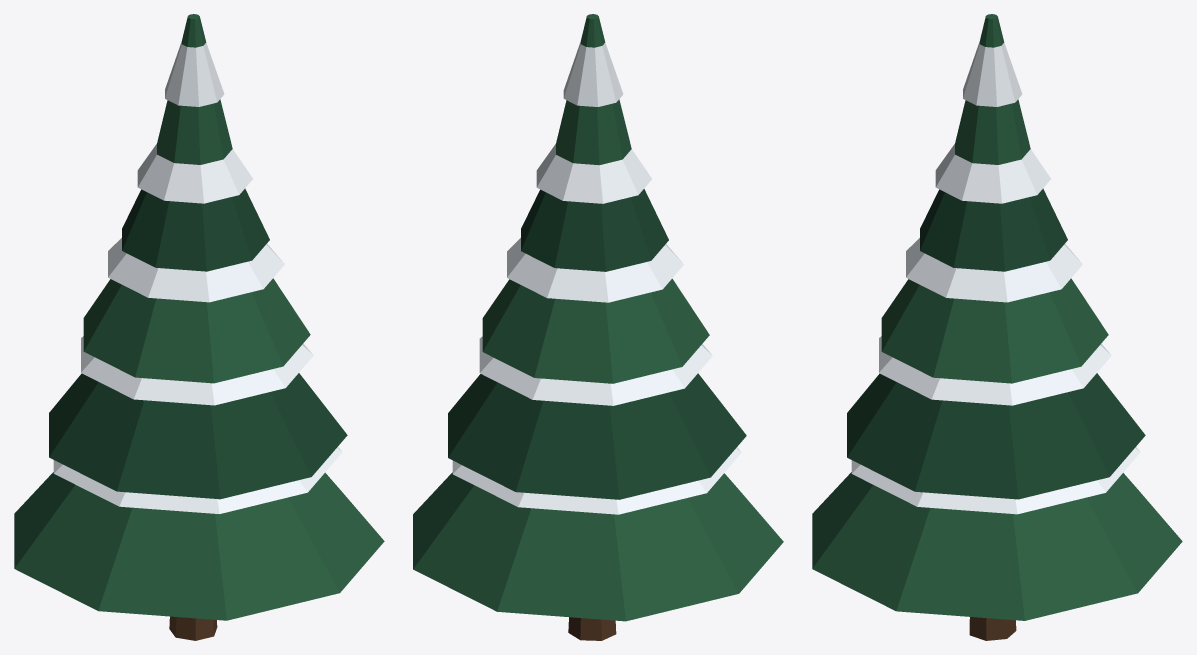
The model's file is p_pine.glb.
3 renders of one model, left to right at view 1: azimuth 30°, elevation 25°; view 2: azimuth 150°, elevation 25°; view 3: azimuth 270°, elevation 25°, orthographic.
Visible parts, largest first — view 1: pine; view 2: pine; view 3: pine.
Part boxes in pixels (bbox=[...]): pine: bbox=[14, 14, 384, 640]; pine: bbox=[413, 14, 783, 640]; pine: bbox=[812, 14, 1182, 640].
Size of the model in its own units: 3.05 by 5.5 by 3.01.
